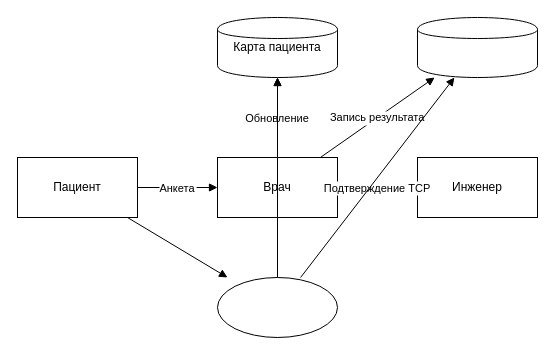
The diagram is 555 pixels wide and 355 high, and some of its shapes have lost their labels. The centre of each missing label's shape, as x and y in pixels:
"Журнал ТСР" belongs at [477,47].
"Обработка ТСР" belongs at [277,307].
